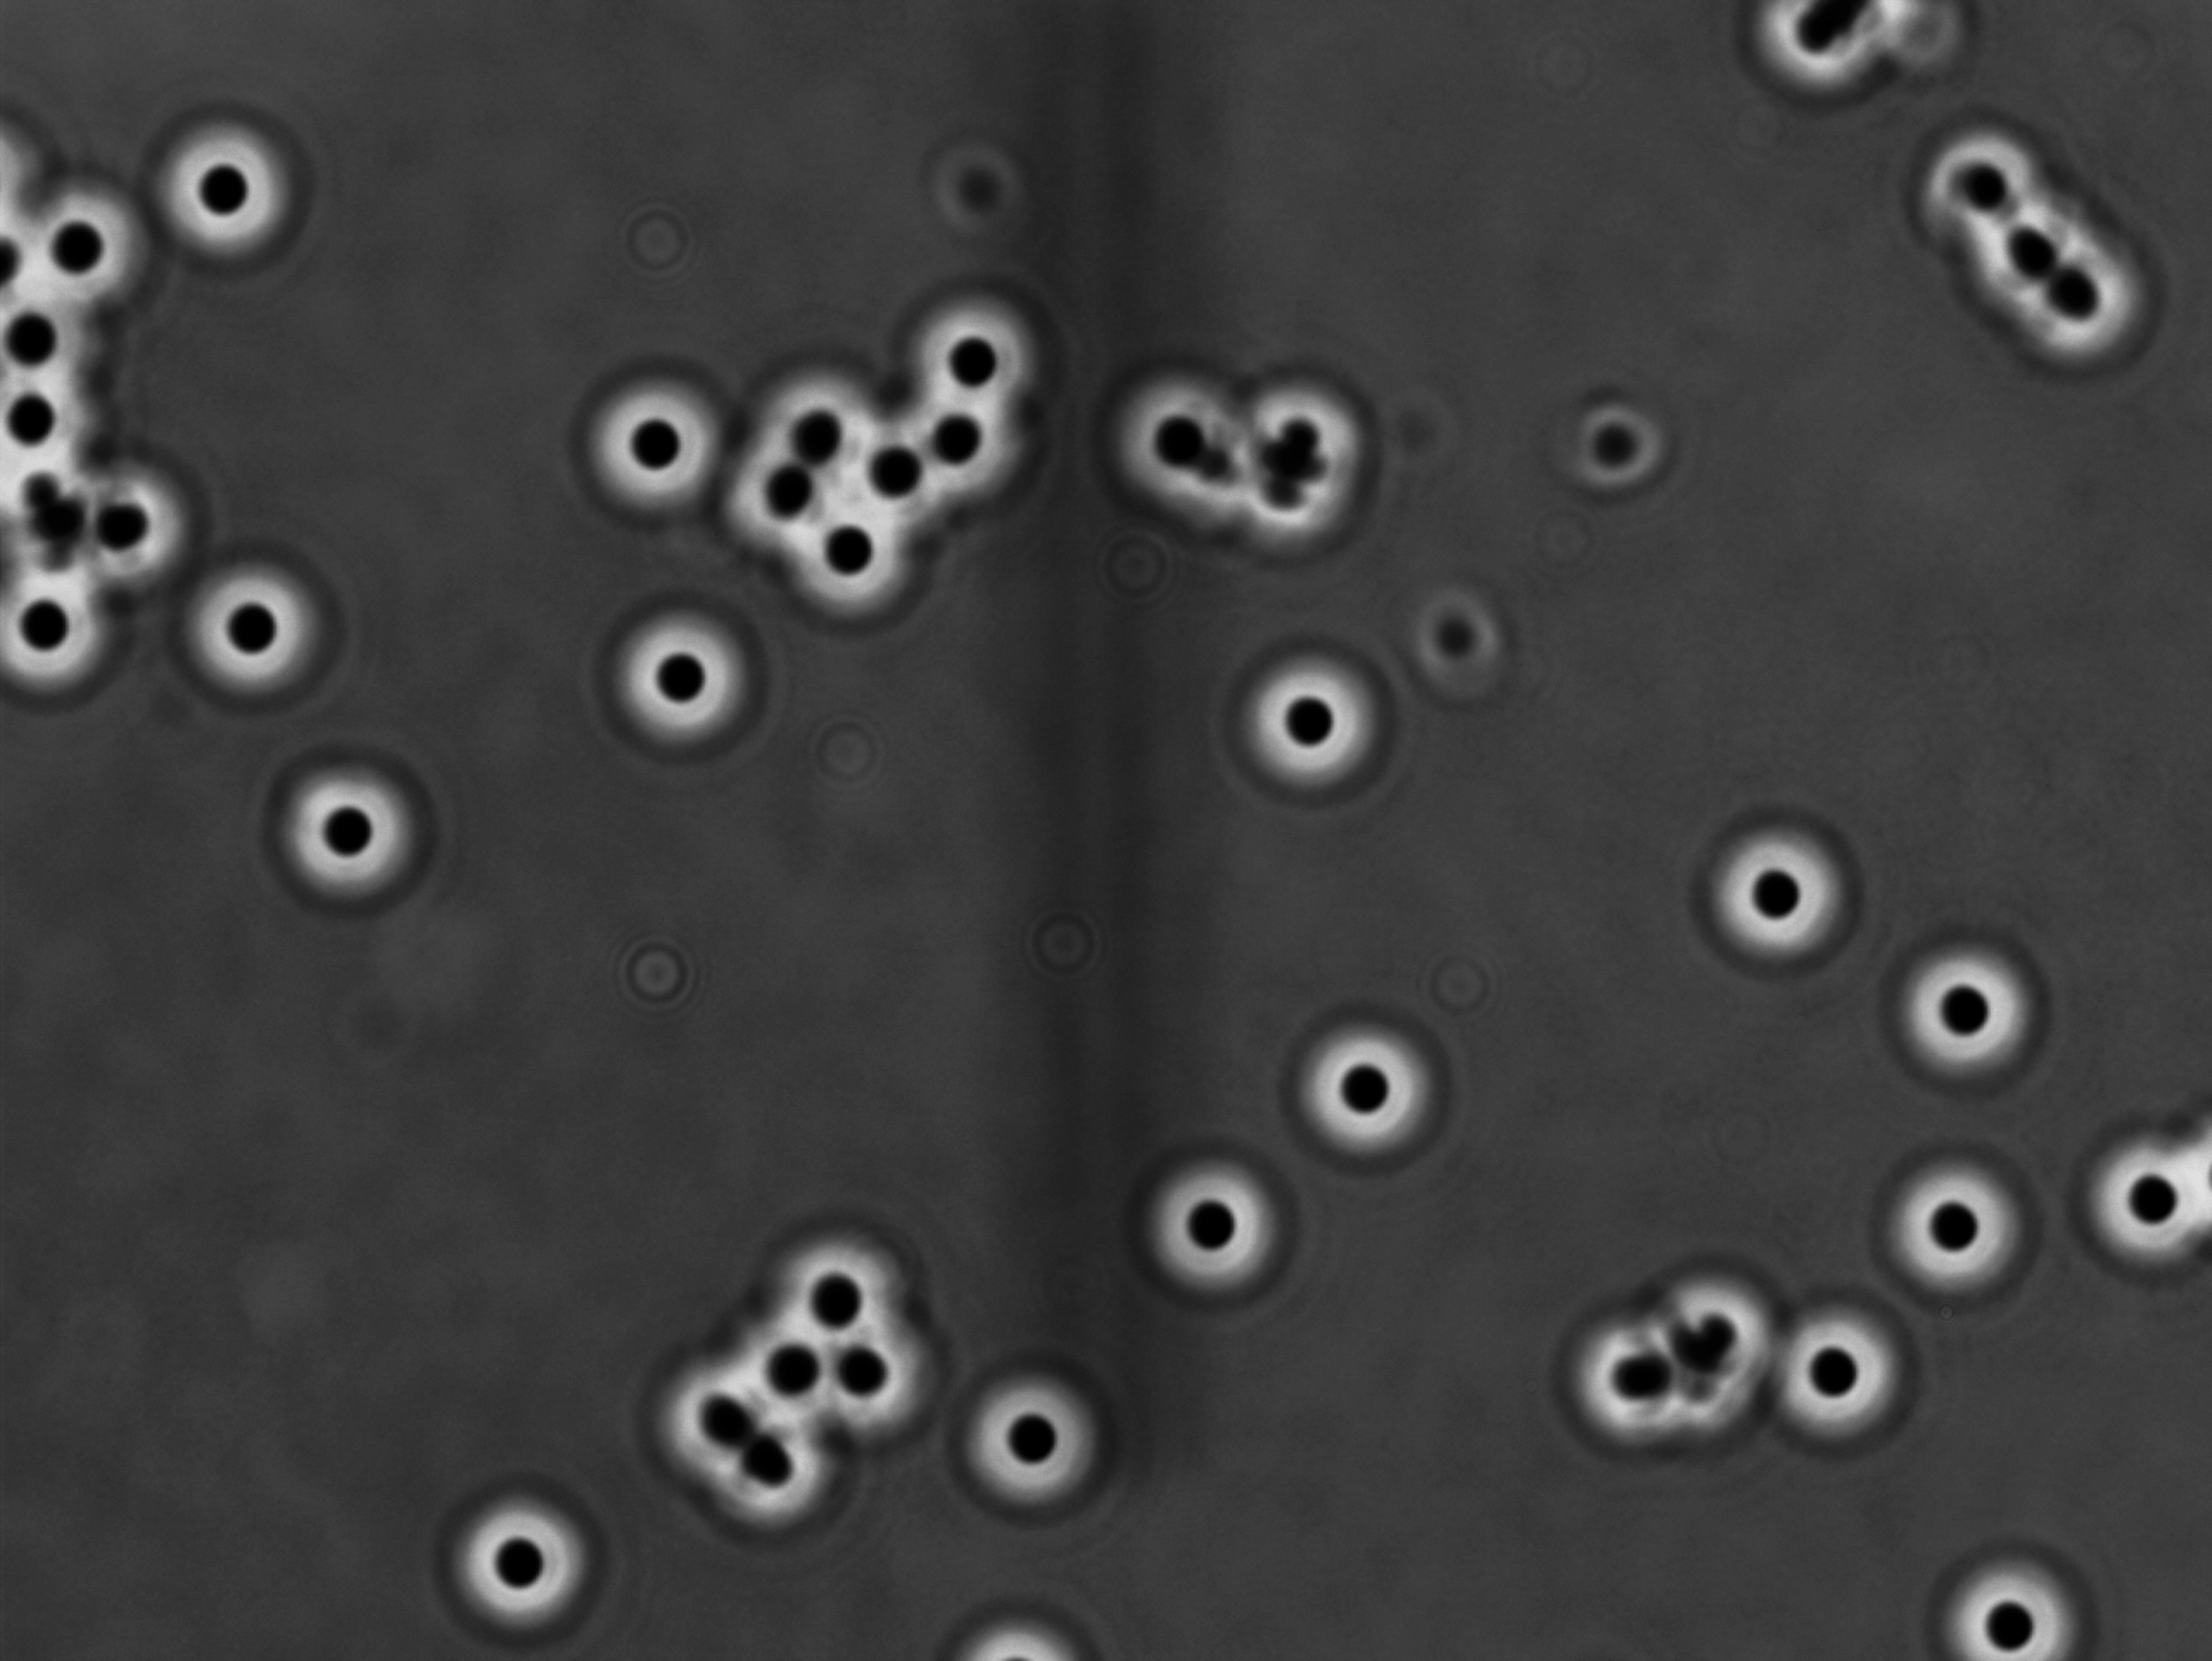depth:-40: (253, 733, 440, 923), (1218, 632, 1410, 813), (1881, 923, 2062, 1110), (1744, 1291, 1926, 1478), (600, 579, 766, 776), (1690, 792, 1868, 974), (1122, 1139, 1307, 1312), (1266, 1008, 1460, 1169), (167, 553, 338, 717), (429, 1478, 600, 1642), (562, 354, 727, 520), (1872, 1148, 2043, 1309), (947, 1359, 1111, 1525), (143, 115, 312, 269), (883, 281, 1054, 429), (2076, 1117, 2212, 1291), (759, 1214, 902, 1366), (1919, 1556, 2120, 1661), (775, 490, 930, 623)
